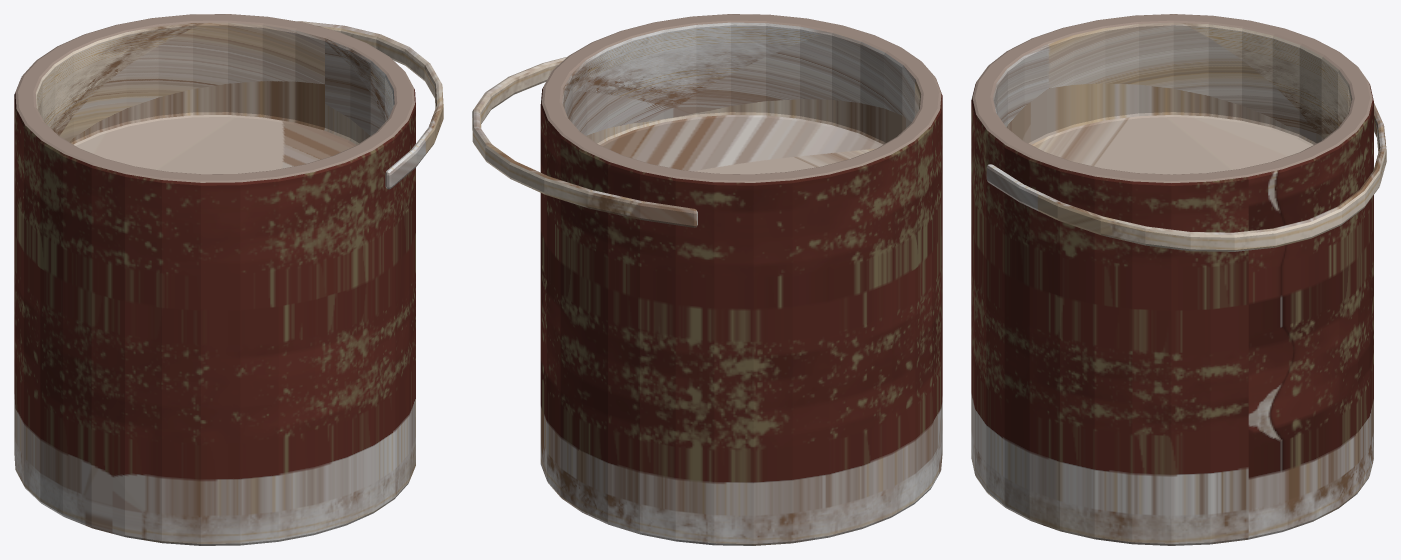
The model's file is pot_2.fbx.
The picture shows the model from 3 angles, left to right: view 1: azimuth 30°, elevation 25°; view 2: azimuth 150°, elevation 25°; view 3: azimuth 270°, elevation 25°; orthographic projection.
Visible parts, largest first — view 1: pot 2; view 2: pot 2; view 3: pot 2.
Part boxes in pixels (x1=…): pot 2: x1=14, y1=14, x2=443, y2=545; pot 2: x1=472, y1=14, x2=942, y2=545; pot 2: x1=971, y1=14, x2=1386, y2=545.
Bounding box in the file's own units: 62.34 × 54.23 × 55.94.
